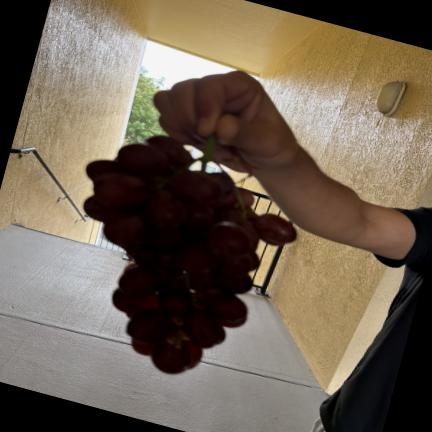grape_cluster: (84, 135, 295, 373)
